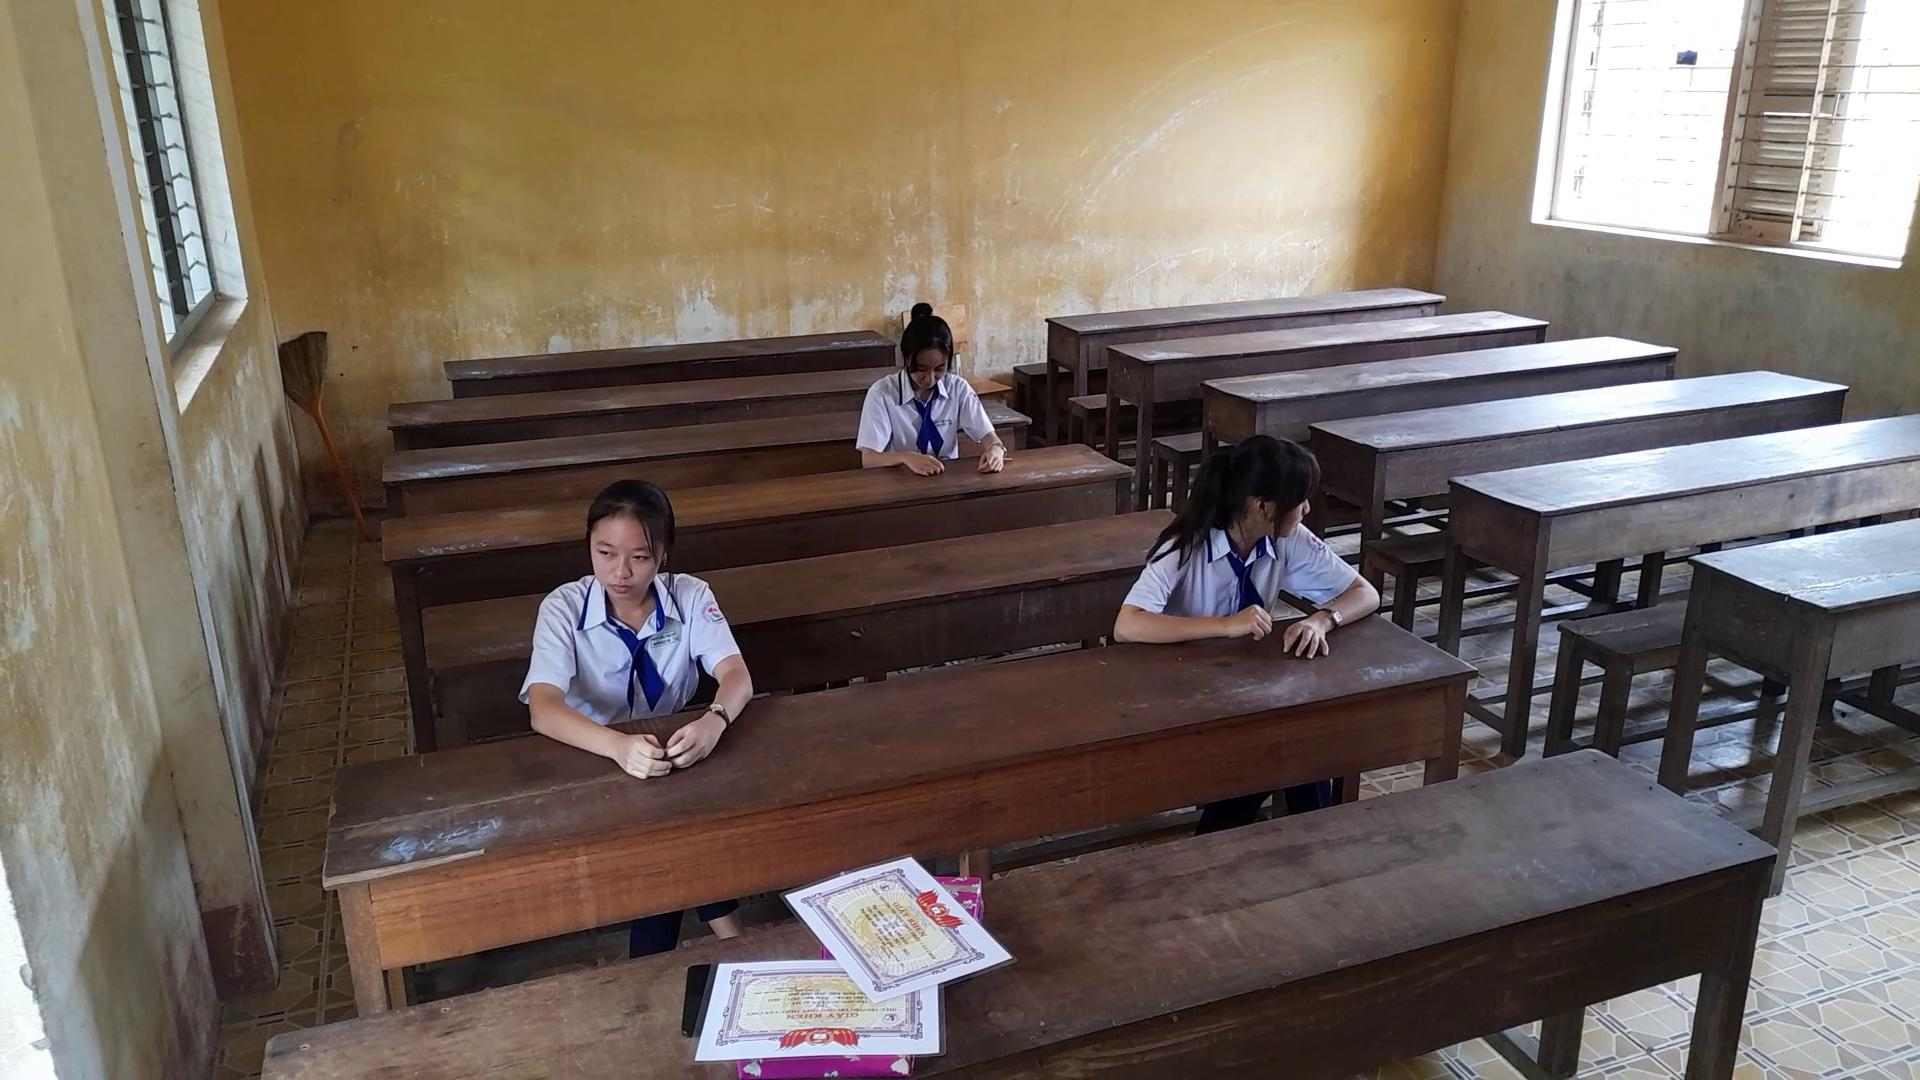Bend Over The Desk: (877, 286, 963, 404)
Look Around: (1170, 422, 1331, 549)
Normal: (522, 458, 766, 771)
